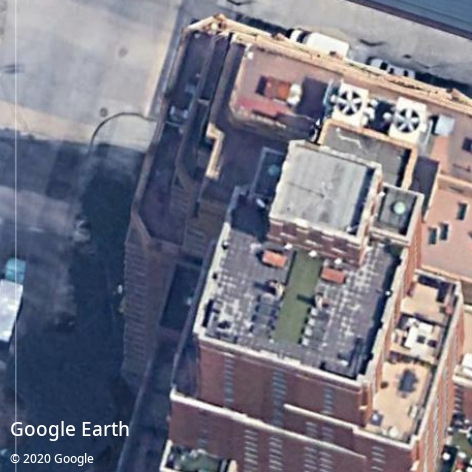Vent: (337, 90, 363, 116), (395, 108, 421, 134)
